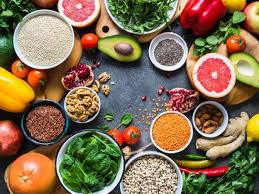Lettuce: (238, 150, 254, 194)
Tomato: (119, 125, 142, 146), (22, 70, 53, 83), (227, 36, 245, 52)
